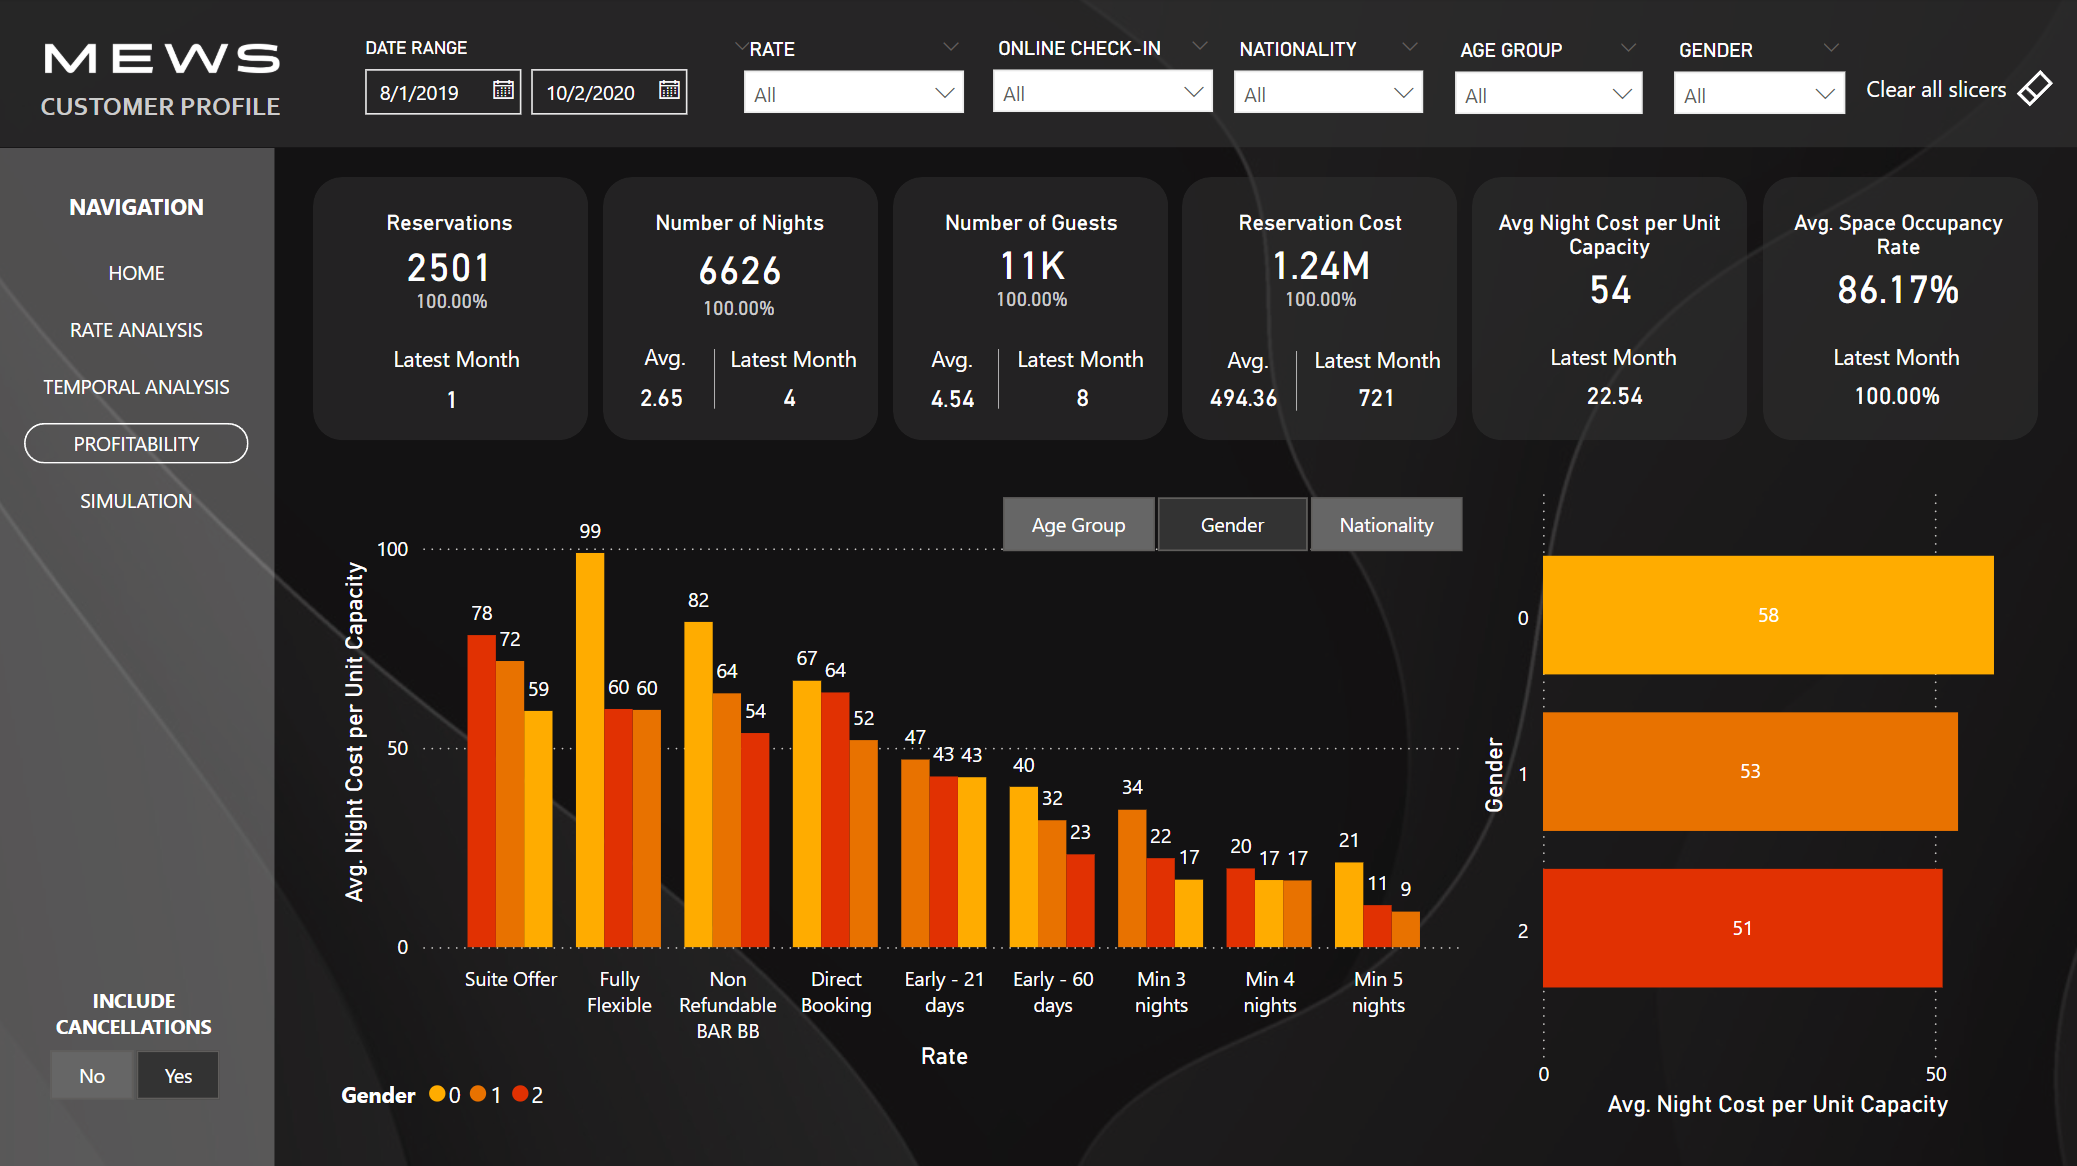

What the dashboard file says about the page in this screenshot:
{"tool":"powerbi","page":{"name":"PROFITABILITY","canvas":[1280,720],"ordinal":3},"visuals":[{"type":"card","title":"Reservations","fields":{"Values":["int_reservations_enriched.Reservations"]},"box":[192.5,130,170,58.3],"z":0,"group":"g4"},{"type":"card","title":"Number of Nights","fields":{"Values":["int_reservations_enriched.Total Nights"]},"box":[371.4,130,169.2,62.5],"z":0,"group":"g3"},{"type":"card","title":"Number of Guests","fields":{"Values":["int_reservations_enriched.Number of Guests"]},"box":[550,130,170,56.7],"z":0,"group":"g2"},{"type":"card","title":"Reservation Cost","fields":{"Values":["int_reservations_enriched.Total Reservation Cost"]},"box":[727.5,130,170,56.7],"z":0,"group":"g1"},{"type":"shape","title":"Shader","box":[0,0,1280,720.9],"z":1000},{"type":"card","title":"Reservations %","fields":{"Values":["int_reservations_enriched.% Reservations"]},"box":[193.7,151.7,170,71.7],"z":1000,"group":"g4"},{"type":"card","title":"Number of Guests %","fields":{"Values":["int_reservations_enriched.% Reservation Cost"]},"box":[550,172.5,170,27.5],"z":1000,"group":"g2"},{"type":"card","title":"Night Cost %","fields":{"Values":["int_reservations_enriched.% Reservation Cost"]},"box":[727.5,172.5,170,27.5],"z":1000,"group":"g1"},{"type":"card","title":"% Number of Nights","fields":{"Values":["int_reservations_enriched.% Nights"]},"box":[370,177.9,170,28.3],"z":1000,"group":"g3"},{"type":"shape","title":"Side Bar","box":[0,91.9,169.8,627.7],"z":2000},{"type":"shape","title":"Header Bar","box":[0,0,1280,91.7],"z":3000},{"type":"textbox","title":"Customer Profile Text","box":[20.8,51.7,165.8,30.8],"z":4000},{"type":"image","title":"Mews Logo","box":[24.2,14.2,154.2,45.8],"z":5000},{"type":"shape","box":[193.3,110,169.2,161.7],"z":6000},{"type":"shape","box":[371.7,110,169.2,161.7],"z":7000},{"type":"shape","box":[1084.2,110,169.2,161.7],"z":8000},{"type":"shape","box":[905.8,110,169.2,161.7],"z":9000},{"type":"shape","box":[550,110,169.2,161.7],"z":10000},{"type":"shape","box":[727.5,110,169.2,161.7],"z":11000},{"type":"card","title":"Avg Night Cost per Unit Capacity","fields":{"Values":["int_reservations_enriched.AvgNightCostPerUnitCapacity"]},"box":[905.8,130,169.2,70.8],"z":12000},{"type":"actionButton","title":"Clear Slicers","box":[1144.2,30,123.3,50],"z":13000},{"type":"textbox","box":[0,114.2,170,31.7],"z":14000},{"type":"group","id":"g1","title":"Night Cost KPI","box":[727.5,130,170,70],"z":15000},{"type":"group","id":"g2","title":"Number of Guests KPI","box":[550,130,170,70],"z":16000},{"type":"group","id":"g3","title":"Number of Nights KPI","box":[370,130,170.8,75.8],"z":17000},{"type":"group","id":"g4","title":"Reservations KPI","box":[192.5,130,171.2,93.3],"z":18000},{"type":"clusteredColumnChart","title":"Avg. Night Cost by Gender and Rate","fields":{"Series":["int_reservations_enriched.gender"],"Y":["int_reservations_enriched.AvgNightCostPerUnitCapacity"],"Category":["int_reservations_enriched.rate_name"]},"box":[205.5,304.5,700.5,387.7],"z":19000},{"type":"card","title":"Avg.","fields":{"Values":["int_reservations_enriched.avg_number_of_guests"]},"box":[548.3,216,75.8,62.5],"z":20000},{"type":"textbox","box":[568.3,207.5,46.7,33.3],"z":21000},{"type":"shape","box":[595.8,215.8,37.5,36.7],"z":22000},{"type":"card","title":"Avg.","fields":{"Values":["int_reservations_enriched.most_recent_month_guest_count"]},"box":[628.5,215.8,75.8,62.5],"z":23000},{"type":"textbox","box":[621,207.5,95.8,45],"z":24000},{"type":"card","title":"Avg.","fields":{"Values":["int_reservations_enriched.avg_number_of_nights"]},"box":[370,215.8,75.8,62.5],"z":25000},{"type":"textbox","box":[391.7,206.7,49.2,33.3],"z":26000},{"type":"shape","box":[421.7,215.8,37.5,36.7],"z":27000},{"type":"card","title":"Avg.","fields":{"Values":["int_reservations_enriched.latest_month_number_of_nights"]},"box":[448.3,215.8,75.8,62.5],"z":28000},{"type":"textbox","box":[445,207.5,95.8,45],"z":29000},{"type":"card","title":"Avg.","fields":{"Values":["int_reservations_enriched.latest_month_number_of_reservations"]},"box":[240.8,216.7,75.8,62.5],"z":30000},{"type":"textbox","box":[237.5,207.5,95.8,45],"z":31000},{"type":"card","title":"Avg. Space Occupancy Rate","fields":{"Values":["int_reservations_enriched.avg_occupancy_rate"]},"box":[1084.3,130.2,166.5,70.6],"z":32000},{"type":"card","title":"Avg.","fields":{"Values":["int_reservations_enriched.avg_reservation_cost"]},"box":[727.5,215.8,75.8,62.5],"z":33000},{"type":"textbox","box":[750,208.3,46.7,33.3],"z":34000},{"type":"shape","box":[779.2,216.7,37.5,36.7],"z":35000},{"type":"card","title":"Avg.","fields":{"Values":["int_reservations_enriched.latest_month_reservation_costs"]},"box":[809.2,215.8,75.8,62.5],"z":36000},{"type":"textbox","box":[803.3,208.3,95.8,45],"z":37000},{"type":"card","title":"Avg.","fields":{"Values":["int_reservations_enriched.latest_month_occupancy_rate"]},"box":[1128.3,214.2,75.8,62.5],"z":38000},{"type":"textbox","box":[1122.5,206.7,95.8,45],"z":39000},{"type":"card","title":"Avg.","fields":{"Values":["int_reservations_enriched.latest_month_night_cost_per_unit_capacity"]},"box":[955,214.2,75.8,62.5],"z":40000},{"type":"textbox","box":[948.3,206.7,95.8,45],"z":41000},{"type":"slicer","title":"Segment","fields":{"Values":["Legend Selector.Legend Selector"]},"box":[591.5,299.6,331.7,46.6],"z":42000},{"type":"pageNavigator","box":[15.8,155.8,138.3,167.2],"z":43000},{"type":"barChart","title":"Avg. Night Cost per Unit Capacity","fields":{"Category":["int_reservations_enriched.gender"],"Series":["int_reservations_enriched.gender"],"Y":["int_reservations_enriched.AvgNightCostPerUnitCapacity"]},"box":[906.3,291.2,343.9,401.2],"z":44000},{"type":"slicer","title":"Gender Slicer","fields":{"Values":["int_reservations_enriched.gender"]},"box":[1019.8,20.2,124.5,71.8],"z":45000},{"type":"slicer","title":"Nationality Slicer","fields":{"Values":["int_reservations_enriched.nationality_code"]},"box":[749.7,19.9,136,72.6],"z":46000},{"type":"slicer","title":"Age Slicer","fields":{"Values":["int_reservations_enriched.age_group"]},"box":[885.2,20.2,134.5,71.8],"z":47000},{"type":"slicer","title":"Rate Slicer","fields":{"Values":["int_reservations_enriched.rate_name"]},"box":[448.6,19.9,155.1,72.6],"z":48000},{"type":"slicer","title":"Rate Slicer","fields":{"Values":["int_reservations_enriched.OnlineCheckinText"]},"box":[601.4,19.1,155.1,72.6],"z":49000},{"type":"slicer","fields":{"Values":["int_reservations_enriched.start_datetime_utc"]},"box":[212.4,19.9,262.1,65],"z":50000},{"type":"slicer","title":"INCLUDE CANCELLATIONS","fields":{"Values":["IncludeCancellations.Include"]},"box":[6.1,607.5,154.4,75.7],"z":51000}]}

Visuals, with their boxes in screenshot pixels (x1, y1, x2, y2), scaled from the page's 1280x720 canvas onto the 2077x1166 screenshot:
"Reservations" card: region(312, 211, 588, 305)
"Number of Nights" card: region(603, 211, 877, 312)
"Number of Guests" card: region(892, 211, 1168, 302)
"Reservation Cost" card: region(1180, 211, 1456, 302)
"Shader" shape: region(0, 0, 2076, 1165)
"Reservations %" card: region(314, 246, 590, 362)
"Number of Guests %" card: region(892, 279, 1168, 324)
"Night Cost %" card: region(1180, 279, 1456, 324)
"% Number of Nights" card: region(600, 288, 876, 334)
"Side Bar" shape: region(0, 149, 276, 1165)
"Header Bar" shape: region(0, 0, 2076, 149)
"Customer Profile Text" textbox: region(34, 84, 303, 134)
"Mews Logo" image: region(39, 23, 289, 97)
shape: region(314, 178, 588, 440)
shape: region(603, 178, 878, 440)
shape: region(1759, 178, 2034, 440)
shape: region(1470, 178, 1744, 440)
shape: region(892, 178, 1167, 440)
shape: region(1180, 178, 1455, 440)
"Avg Night Cost per Unit Capacity" card: region(1470, 211, 1744, 325)
"Clear Slicers" actionButton: region(1857, 49, 2057, 130)
textbox: region(0, 185, 276, 236)
"Night Cost KPI" group: region(1180, 211, 1456, 324)
"Number of Guests KPI" group: region(892, 211, 1168, 324)
"Number of Nights KPI" group: region(600, 211, 878, 333)
"Reservations KPI" group: region(312, 211, 590, 362)
"Avg. Night Cost by Gender and Rate" clusteredColumnChart: region(333, 493, 1470, 1121)
"Avg." card: region(890, 350, 1013, 451)
textbox: region(922, 336, 998, 390)
shape: region(967, 349, 1028, 409)
"Avg." card: region(1020, 349, 1143, 451)
textbox: region(1008, 336, 1163, 409)
"Avg." card: region(600, 349, 723, 451)
textbox: region(636, 335, 715, 389)
shape: region(684, 349, 745, 409)
"Avg." card: region(727, 349, 850, 451)
textbox: region(722, 336, 878, 409)
"Avg." card: region(391, 351, 514, 452)
textbox: region(385, 336, 541, 409)
"Avg. Space Occupancy Rate" card: region(1759, 211, 2030, 325)
"Avg." card: region(1180, 349, 1303, 451)
textbox: region(1217, 337, 1293, 391)
shape: region(1264, 351, 1325, 410)
"Avg." card: region(1313, 349, 1436, 451)
textbox: region(1303, 337, 1459, 410)
"Avg." card: region(1831, 347, 1954, 448)
textbox: region(1821, 335, 1977, 408)
"Avg." card: region(1550, 347, 1673, 448)
textbox: region(1539, 335, 1694, 408)
"Segment" slicer: region(960, 485, 1498, 561)
pageNavigator: region(26, 252, 250, 523)
"Avg. Night Cost per Unit Capacity" barChart: region(1471, 472, 2029, 1121)
"Gender Slicer" slicer: region(1655, 33, 1857, 149)
"Nationality Slicer" slicer: region(1217, 32, 1437, 150)
"Age Slicer" slicer: region(1436, 33, 1655, 149)
"Rate Slicer" slicer: region(728, 32, 980, 150)
"Rate Slicer" slicer: region(976, 31, 1228, 149)
slicer - int_reservations_enriched.start_datetime_utc: region(345, 32, 770, 137)
"INCLUDE CANCELLATIONS" slicer: region(10, 984, 260, 1106)
